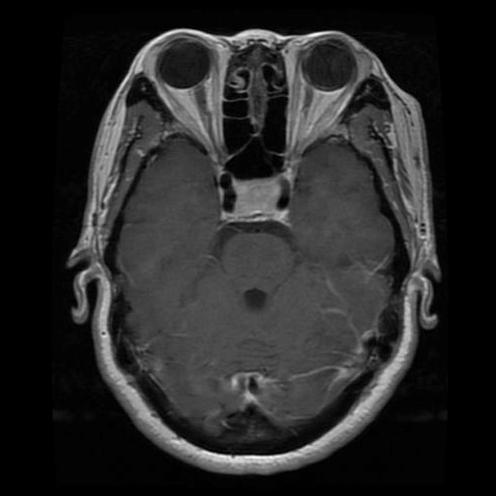Tumour-Pituitary: (214, 168, 302, 232)
